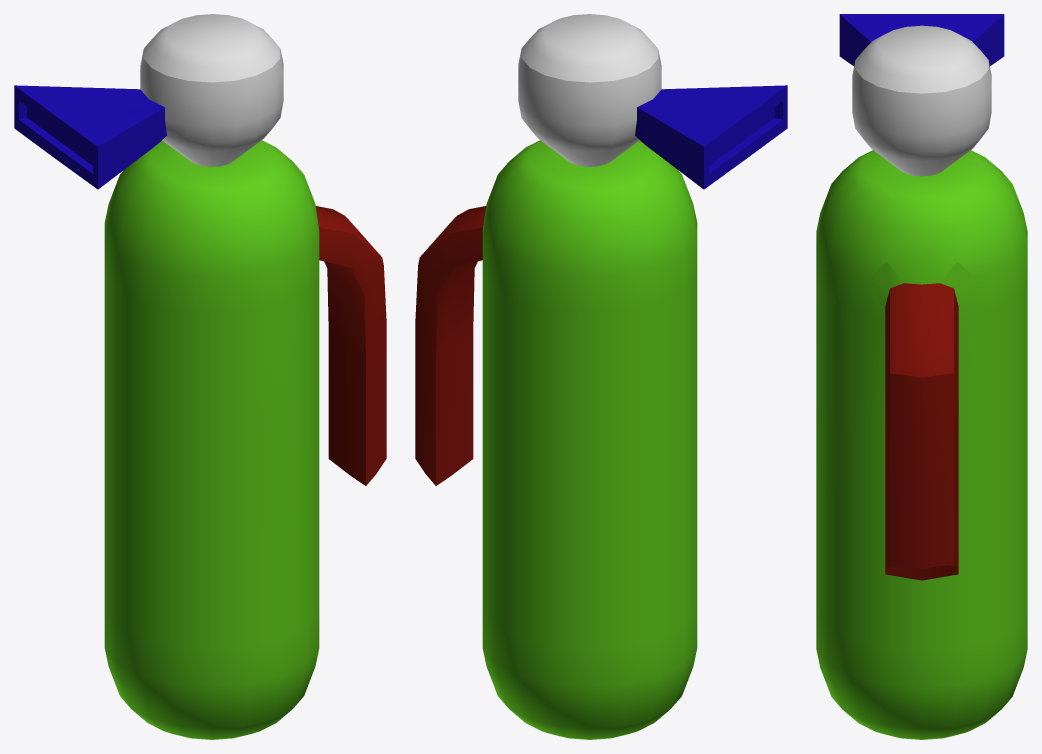
File: exitnito.fbx
The picture shows the model from 3 angles, left to right: view 1: azimuth 30°, elevation 25°; view 2: azimuth 150°, elevation 25°; view 3: azimuth 270°, elevation 25°; orthographic projection.
Parts seen in each view (by area): view 1: Cylinder002; view 2: Cylinder002; view 3: Cylinder002.
Boxes of the visible parts, x1=… form: Cylinder002: x1=14, y1=14, x2=386, y2=739; Cylinder002: x1=415, y1=14, x2=787, y2=739; Cylinder002: x1=816, y1=14, x2=1027, y2=739.
Size of the model in its own units: 0.7129 by 1.44 by 0.4117.
